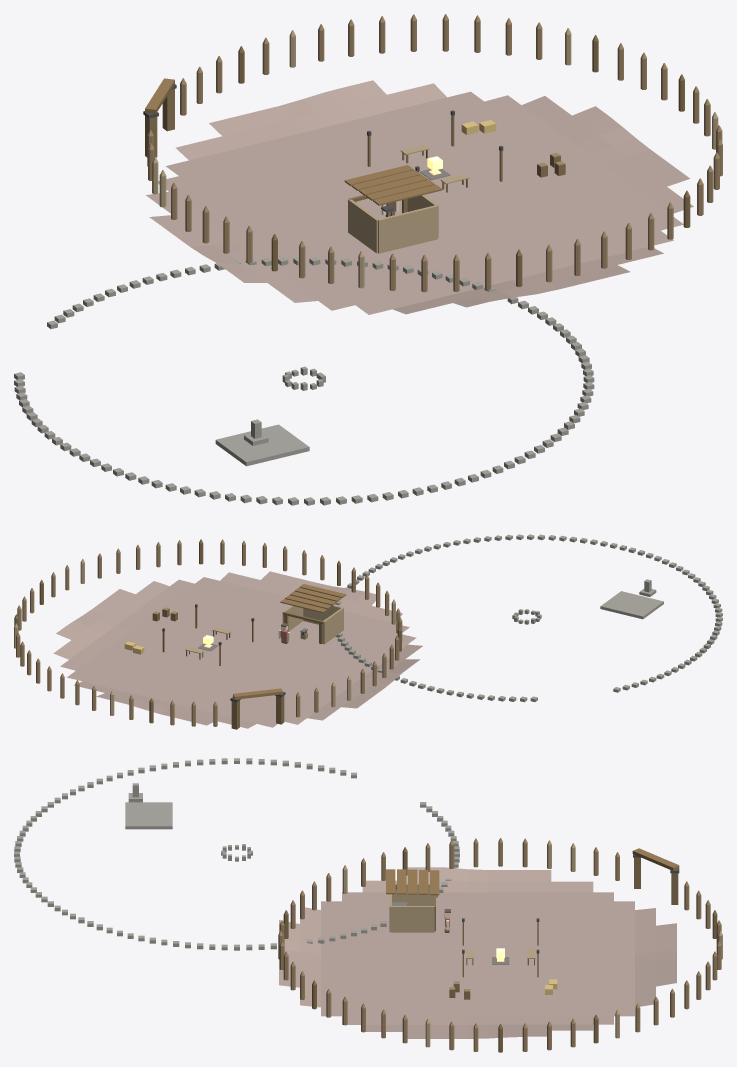
File: village.glb
3 views of the same model, one above another, from view 1: azimuth 30°, elevation 25°; view 2: azimuth 150°, elevation 25°; view 3: azimuth 270°, elevation 25° (orthographic). The views are drawn at different scales.
Parts seen in each view (by area): view 1: Village_Dirt, Village_Stone, Village_Log, Village_Plank, Village_LogDark, Village_Roof, Village_LogLight; view 2: Village_Dirt, Village_Stone, Village_Log, Village_LogDark, Village_Roof, Village_Plank, Village_LogLight; view 3: Village_Dirt, Village_Log, Village_Stone, Village_Plank, Village_LogDark, Village_Roof, Village_LogLight.
Boxes of the visible parts, x1=… form: Village_Dirt: x1=146, y1=80, x2=693, y2=314; Village_Stone: x1=14, y1=257, x2=594, y2=505; Village_Log: x1=147, y1=14, x2=722, y2=292; Village_Plank: x1=348, y1=144, x2=469, y2=253; Village_LogDark: x1=145, y1=35, x2=690, y2=286; Village_Roof: x1=145, y1=78, x2=442, y2=205; Village_LogLight: x1=152, y1=28, x2=718, y2=288; Village_Dirt: x1=53, y1=571, x2=422, y2=728; Village_Stone: x1=335, y1=534, x2=722, y2=702; Village_Log: x1=16, y1=539, x2=402, y2=726; Village_LogDark: x1=14, y1=539, x2=401, y2=729; Village_Roof: x1=233, y1=584, x2=346, y2=699; Village_Plank: x1=185, y1=605, x2=343, y2=653; Village_LogLight: x1=14, y1=559, x2=395, y2=715; Village_Dirt: x1=279, y1=867, x2=676, y2=1038; Village_Log: x1=278, y1=838, x2=721, y2=1051; Village_Stone: x1=14, y1=758, x2=459, y2=950; Village_Plank: x1=389, y1=883, x2=535, y2=958; Village_LogDark: x1=283, y1=847, x2=717, y2=1052; Village_Roof: x1=386, y1=848, x2=679, y2=895; Village_LogLight: x1=342, y1=840, x2=722, y2=1047.
Bounding box in the file's own units: 81.17 × 6.5 × 80.61.
